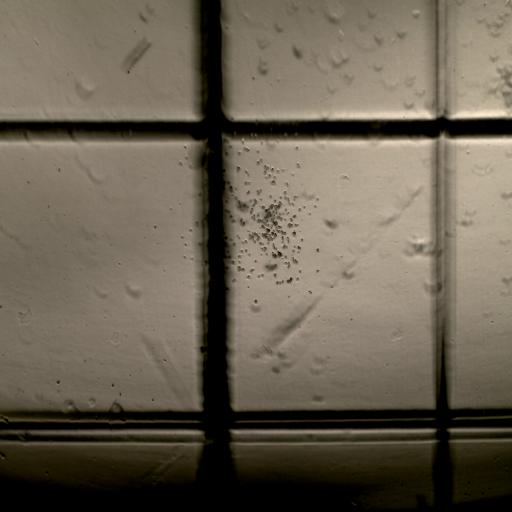CFU-GM: (226, 147, 320, 288)
